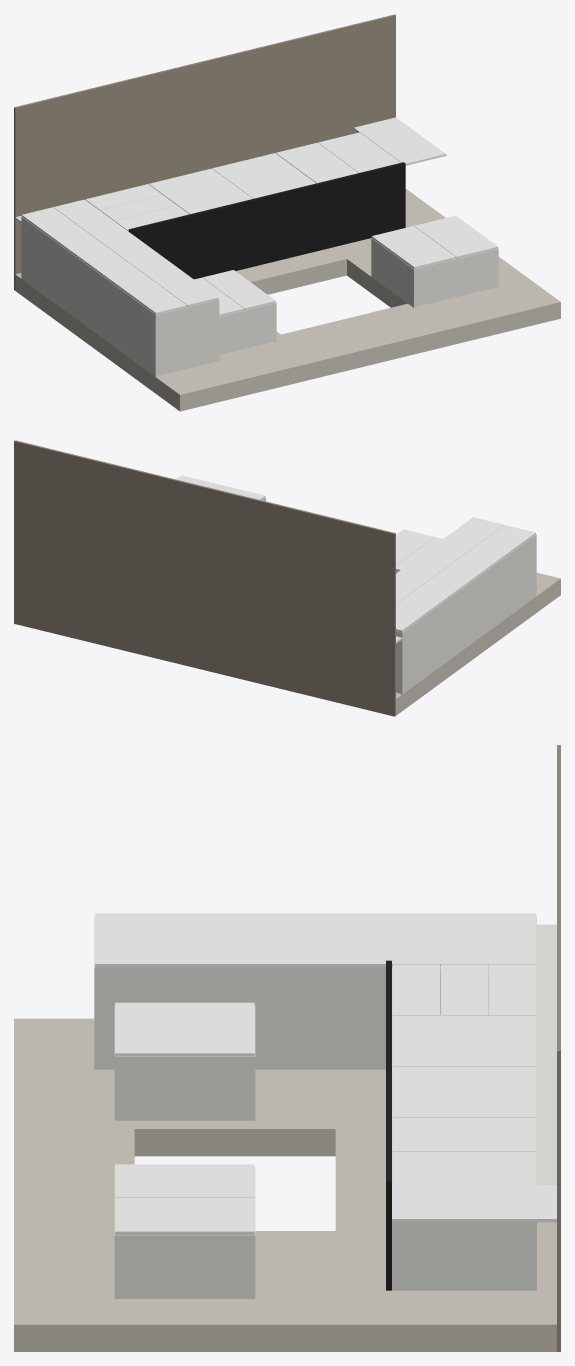
The model's file is Cozinha_Linear_3600.obj.
3 renders of one model, top to bottom at view 1: azimuth 30°, elevation 25°; view 2: azimuth 150°, elevation 25°; view 3: azimuth 270°, elevation 25°, orthographic. The views are drawn at different scales.
Parts seen in each view (by area): view 1: AMBIENTE, M01_tall_cabinet, M02_drawer_cabinet, M07_wall_cabinet, M03_sink_cabinet, M06_wall_cabinet, M04_base_cabinet, M05_filler; view 2: AMBIENTE, M01_tall_cabinet, M06_wall_cabinet, M07_wall_cabinet; view 3: AMBIENTE, M01_tall_cabinet, M04_base_cabinet, M07_wall_cabinet, M03_sink_cabinet, M06_wall_cabinet, M02_drawer_cabinet, M05_filler.
Boxes of the visible parts, x1,y1,x2,y2 form: AMBIENTE: [14, 14, 560, 411]; M01_tall_cabinet: [15, 199, 219, 376]; M02_drawer_cabinet: [85, 162, 405, 279]; M07_wall_cabinet: [371, 215, 498, 307]; M03_sink_cabinet: [149, 153, 316, 214]; M06_wall_cabinet: [194, 270, 276, 354]; M04_base_cabinet: [275, 132, 400, 183]; M05_filler: [353, 117, 446, 165]; AMBIENTE: [14, 440, 560, 716]; M01_tall_cabinet: [396, 517, 536, 694]; M06_wall_cabinet: [396, 529, 442, 573]; M07_wall_cabinet: [176, 475, 265, 501]; AMBIENTE: [14, 745, 560, 1351]; M01_tall_cabinet: [94, 913, 556, 1069]; M04_base_cabinet: [392, 1117, 556, 1290]; M07_wall_cabinet: [114, 1164, 255, 1298]; M03_sink_cabinet: [392, 1015, 556, 1128]; M06_wall_cabinet: [114, 1002, 255, 1120]; M02_drawer_cabinet: [386, 960, 556, 1290]; M05_filler: [392, 1185, 556, 1222].
Size of the model in its own units: 3600 by 1650 by 2720.
